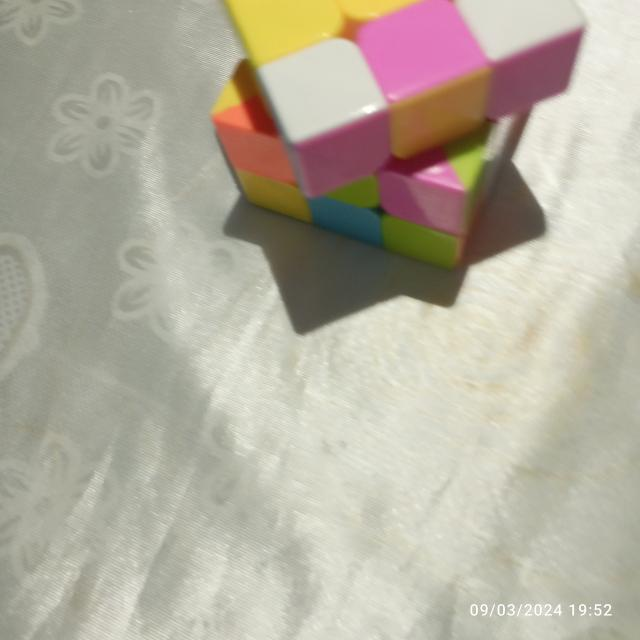Rub: (206, 0, 589, 272)
